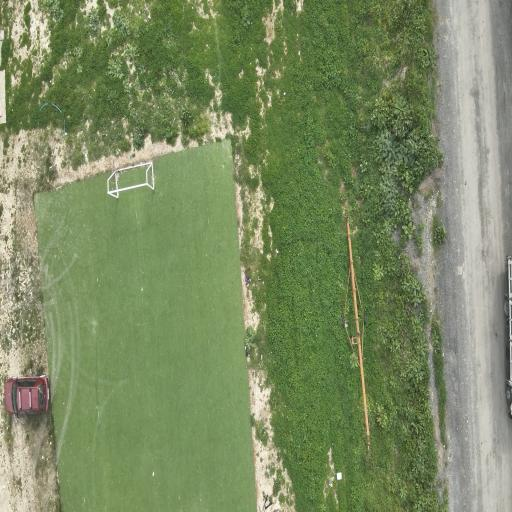car: (4, 375, 48, 413)
